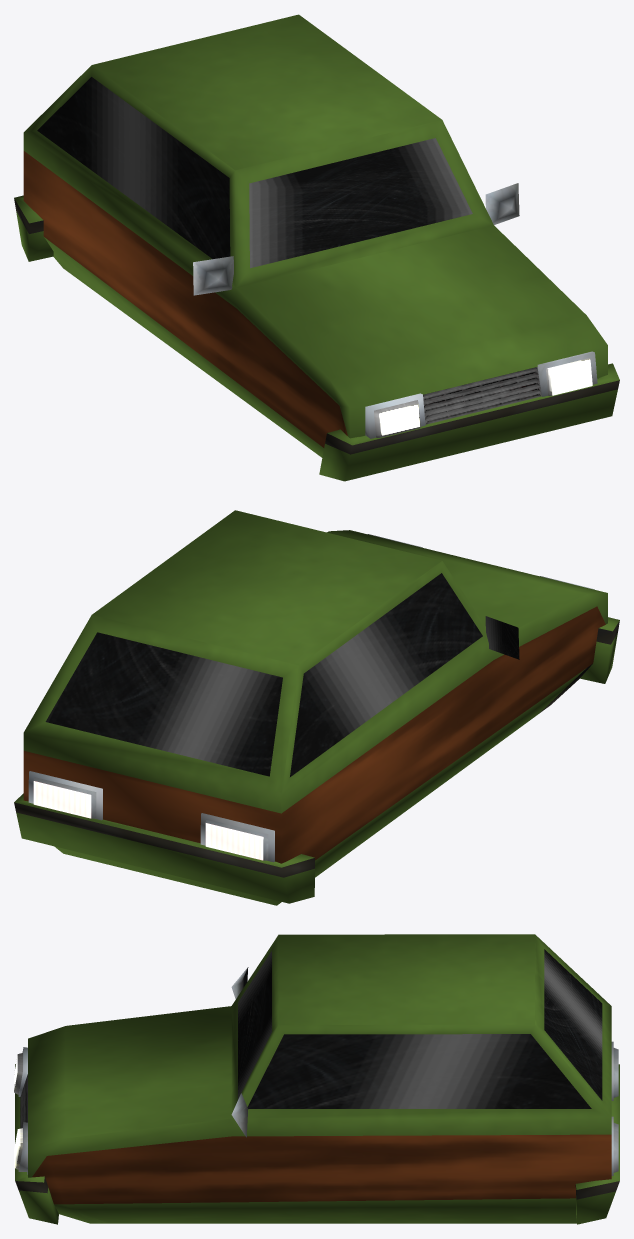
File: EnemyCar_1_v2.fbx
3 views of the same model, one above another, from view 1: azimuth 30°, elevation 25°; view 2: azimuth 150°, elevation 25°; view 3: azimuth 270°, elevation 25° (orthographic). The views are drawn at different scales.
Visible parts, largest first — view 1: StationWagon.002; view 2: StationWagon.002; view 3: StationWagon.002.
Boxes of the visible parts, bbox=[...] form: StationWagon.002: bbox=[14, 14, 619, 481]; StationWagon.002: bbox=[14, 510, 619, 905]; StationWagon.002: bbox=[14, 934, 619, 1224].
Bounding box in the file's own units: 75.86 × 49.18 × 137.
